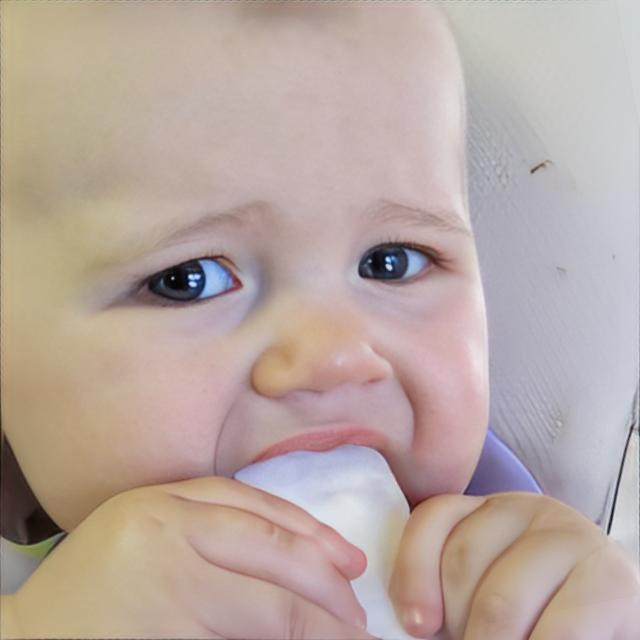sad: (0, 7, 494, 555)
